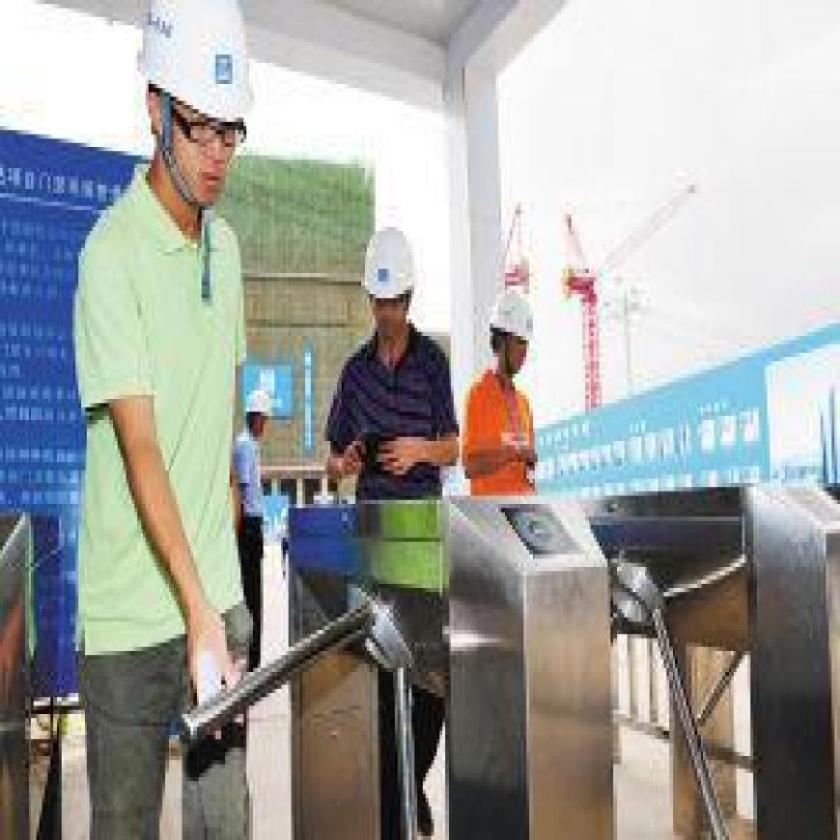Con_casco: (130, 0, 286, 220), (359, 199, 418, 343)
